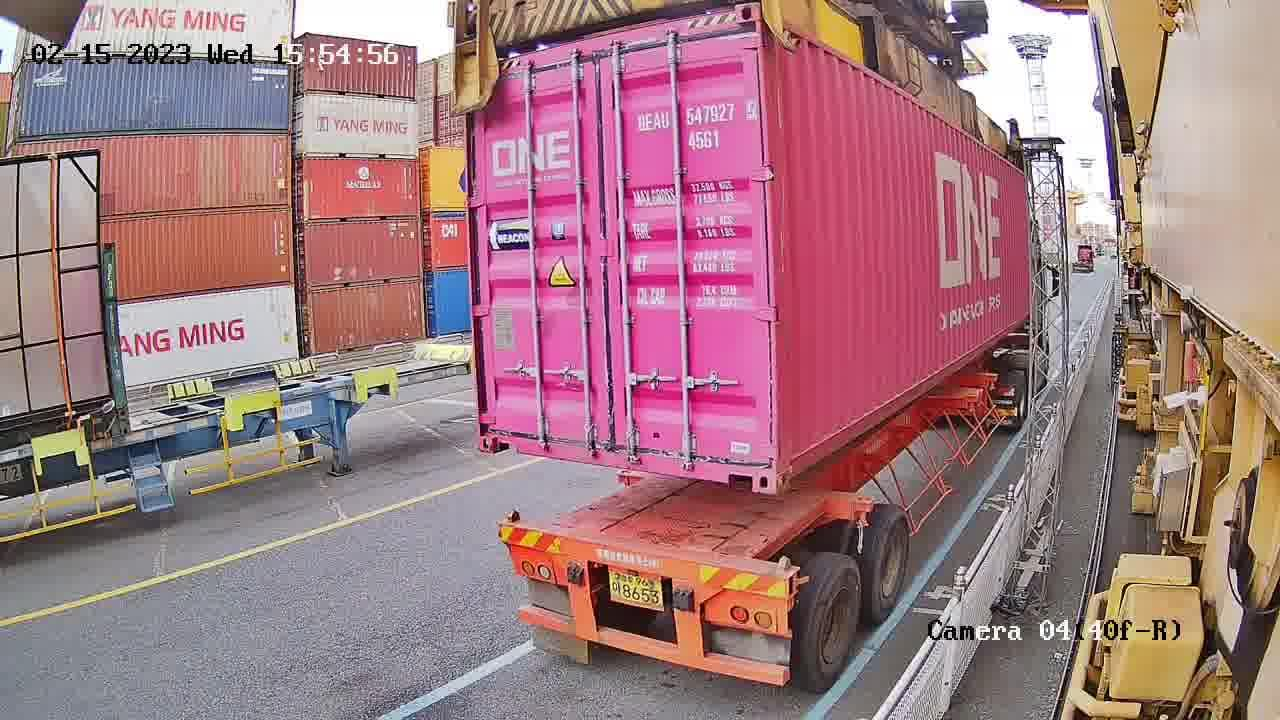Chassis: (501, 525, 789, 630)
Cone: (775, 555, 802, 608), (494, 511, 523, 553)
Hole_L: (778, 419, 816, 493), (476, 402, 525, 453)
Hole_R: (719, 433, 779, 492)
Tire: (806, 560, 862, 687), (866, 506, 911, 612)
